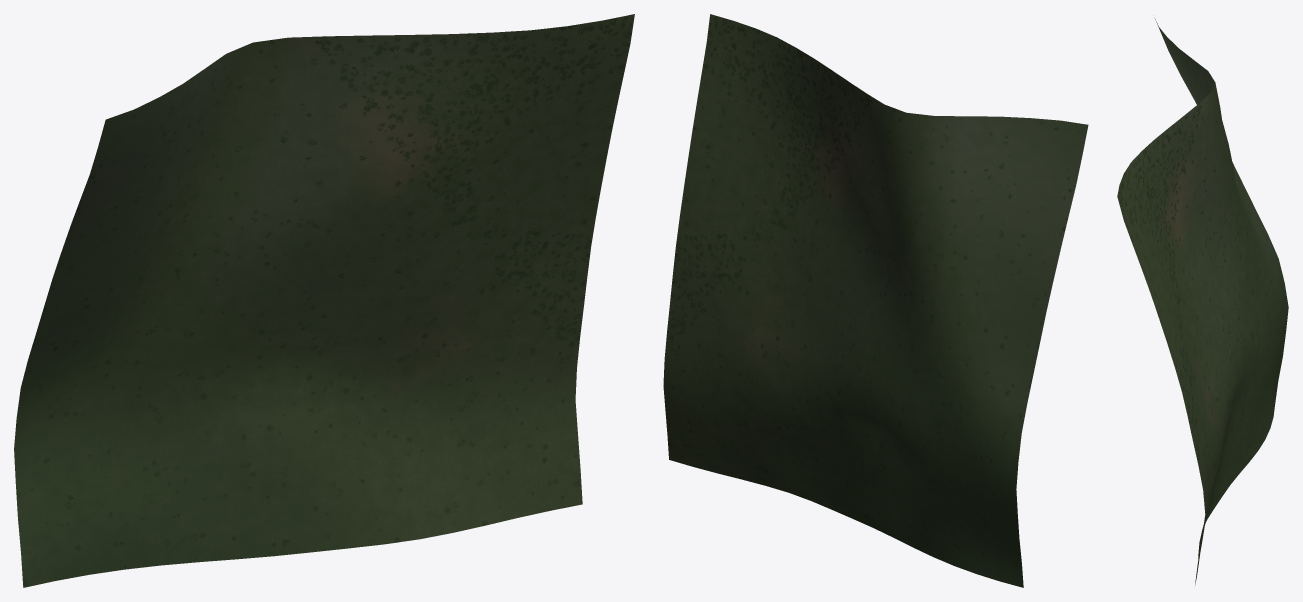
File: terrain_mid_00_01.obj
3 renders of one model, left to right at view 1: azimuth 30°, elevation 25°; view 2: azimuth 150°, elevation 25°; view 3: azimuth 270°, elevation 25°, orthographic. The views are drawn at different scales.
Parts seen in each view (by area): view 1: terrain_mid_00_01; view 2: terrain_mid_00_01; view 3: terrain_mid_00_01.
Boxes of the visible parts, x1=… form: terrain_mid_00_01: x1=14, y1=14, x2=634, y2=587; terrain_mid_00_01: x1=663, y1=14, x2=1088, y2=587; terrain_mid_00_01: x1=1117, y1=19, x2=1288, y2=585.
Size of the model in its own units: 320 by 320 by 127.
1 material, 1 textured.
